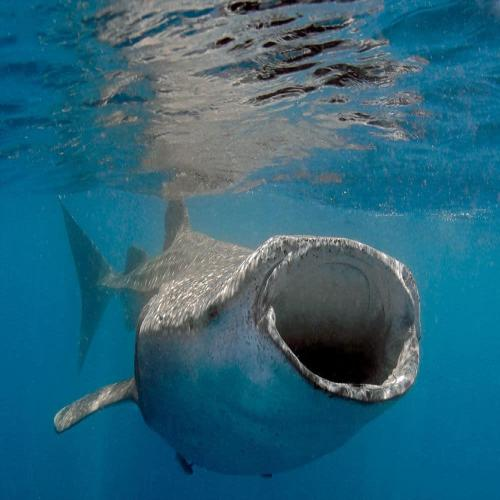shark-endangered: (57, 204, 423, 482)
